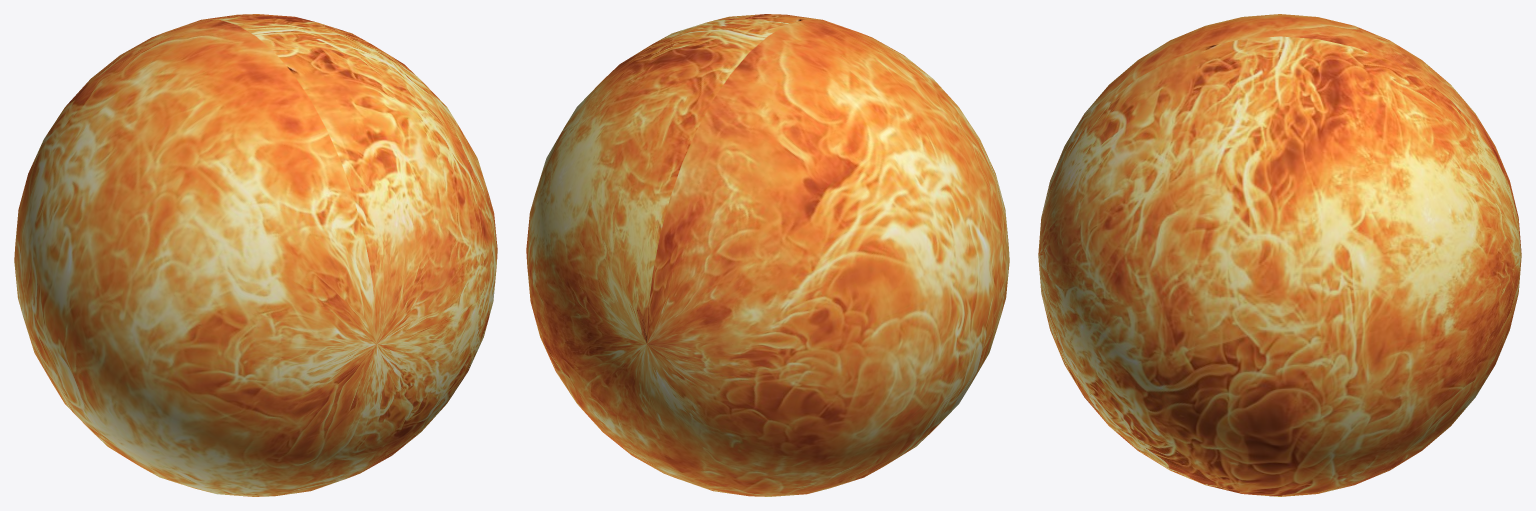
The model's file is FireBall.obj.
3 renders of one model, left to right at view 1: azimuth 30°, elevation 25°; view 2: azimuth 150°, elevation 25°; view 3: azimuth 270°, elevation 25°, orthographic.
Visible parts, largest first — view 1: Sphere; view 2: Sphere; view 3: Sphere.
Part boxes in pixels (<box>): Sphere: <box>14,14,497,496</box>; Sphere: <box>526,14,1009,496</box>; Sphere: <box>1038,14,1521,496</box>.
Size of the model in its own units: 2 by 2 by 2.
1 material, 1 textured.
